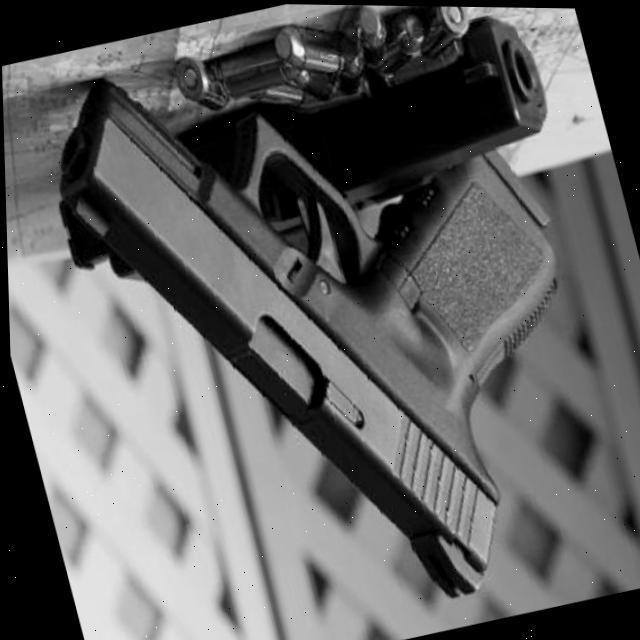gun: (31, 0, 636, 640), (28, 3, 574, 301)
